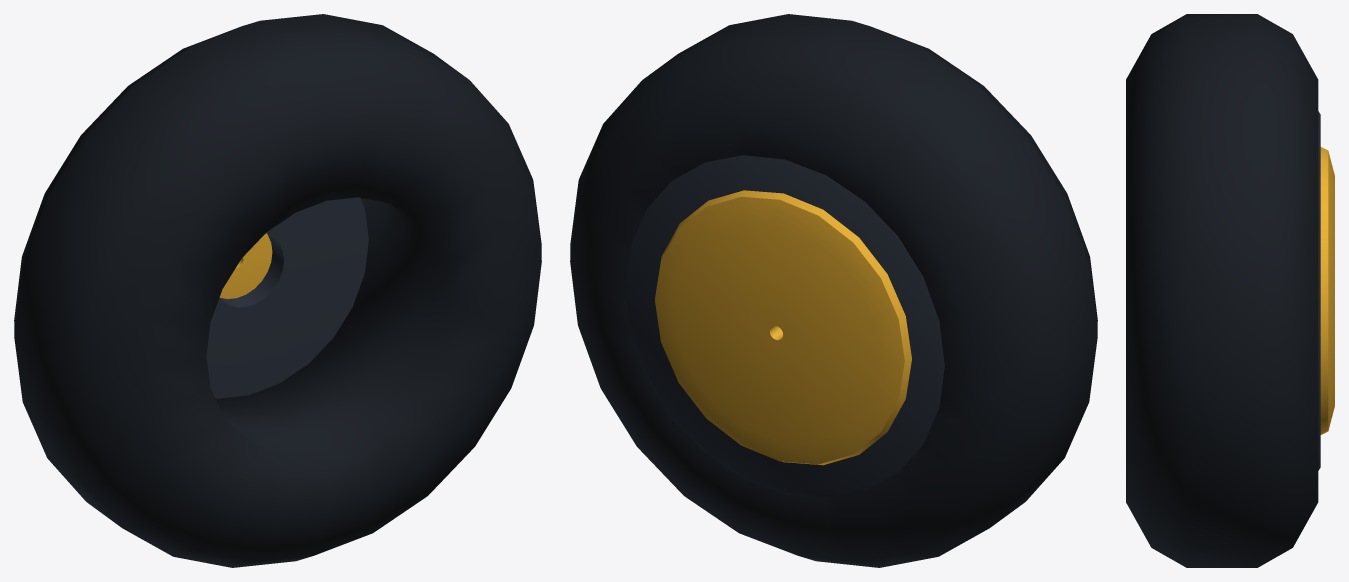
3 views of the same model, side by side, from view 1: azimuth 30°, elevation 25°; view 2: azimuth 150°, elevation 25°; view 3: azimuth 270°, elevation 25° (orthographic).
Parts seen in each view (by area): view 1: W03_WHEEL_Library_Tire, W03_WHEEL_Library_UtilityDish, W03_WHEEL_Library_PressedCap; view 2: W03_WHEEL_Library_Tire, W03_WHEEL_Library_PressedCap, W03_WHEEL_Library_UtilityDish; view 3: W03_WHEEL_Library_Tire, W03_WHEEL_Library_PressedCap, W03_WHEEL_Library_UtilityDish.
Boxes of the visible parts, <box> form: W03_WHEEL_Library_Tire: <box>14,14,541,567</box>; W03_WHEEL_Library_UtilityDish: <box>206,197,368,398</box>; W03_WHEEL_Library_PressedCap: <box>219,233,272,298</box>; W03_WHEEL_Library_Tire: <box>570,14,1097,567</box>; W03_WHEEL_Library_PressedCap: <box>655,190,911,465</box>; W03_WHEEL_Library_UtilityDish: <box>625,155,944,498</box>; W03_WHEEL_Library_Tire: <box>1126,14,1318,567</box>; W03_WHEEL_Library_PressedCap: <box>1320,147,1334,434</box>; W03_WHEEL_Library_UtilityDish: <box>1318,111,1320,470</box>.
Size of the model in its own units: 2.75 by 2.75 by 1.03.
